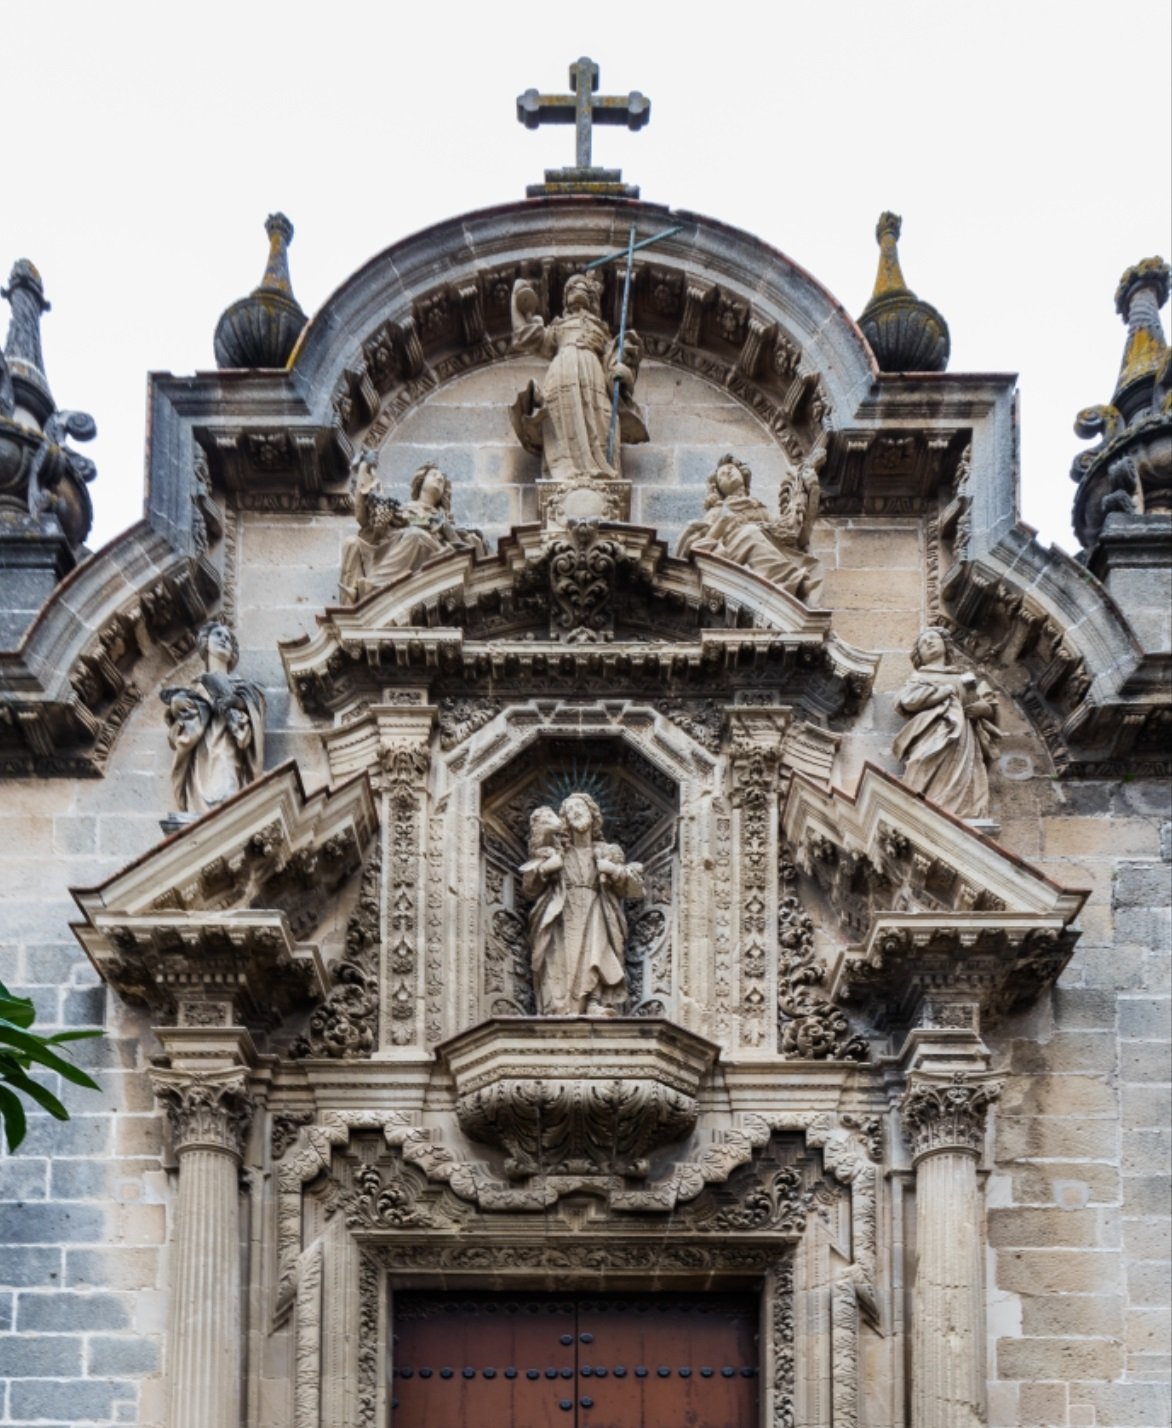fronton-partido: (69, 741, 1093, 970), (337, 537, 847, 676)
